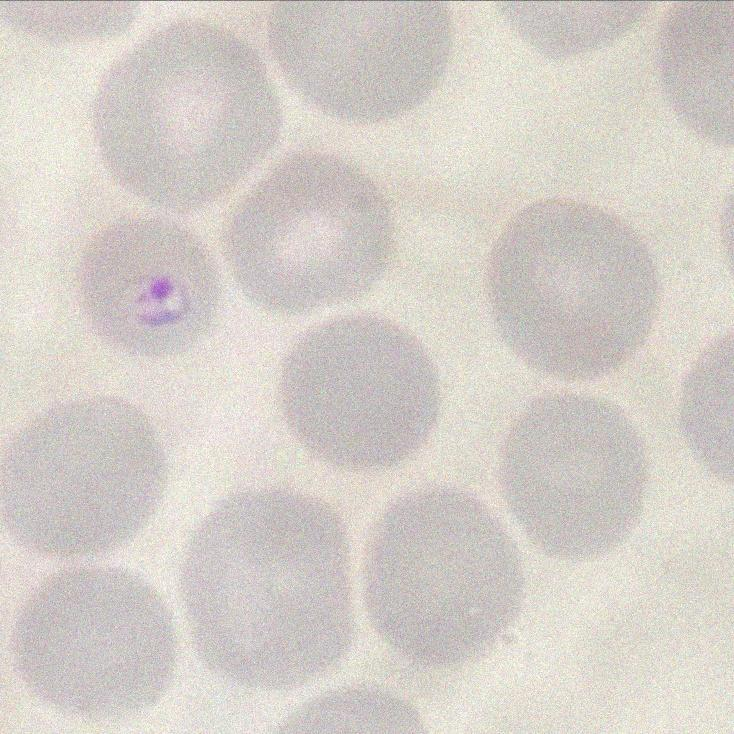Infected: (80, 205, 219, 364)
Uninfected: (94, 19, 283, 213), (182, 489, 354, 688), (355, 482, 527, 667), (488, 205, 666, 381), (226, 149, 390, 316), (8, 399, 170, 561), (498, 389, 645, 562), (10, 569, 179, 719), (284, 313, 441, 473), (271, 0, 450, 125)
